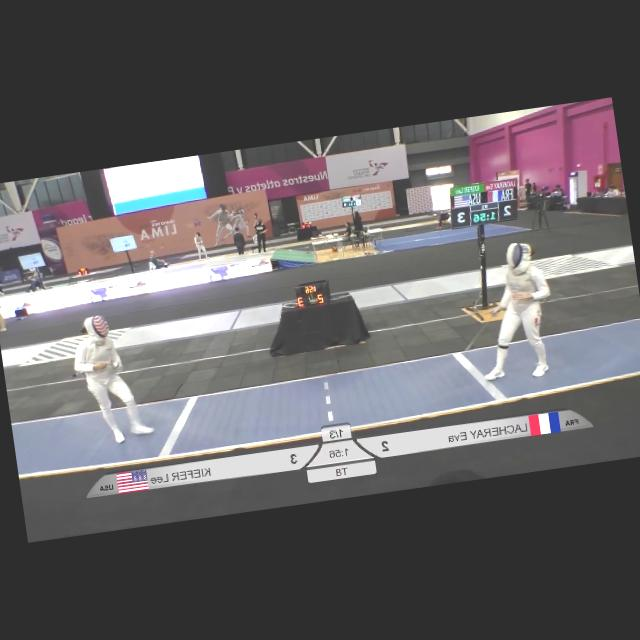blade: (451, 309, 503, 364), (71, 352, 123, 375)
